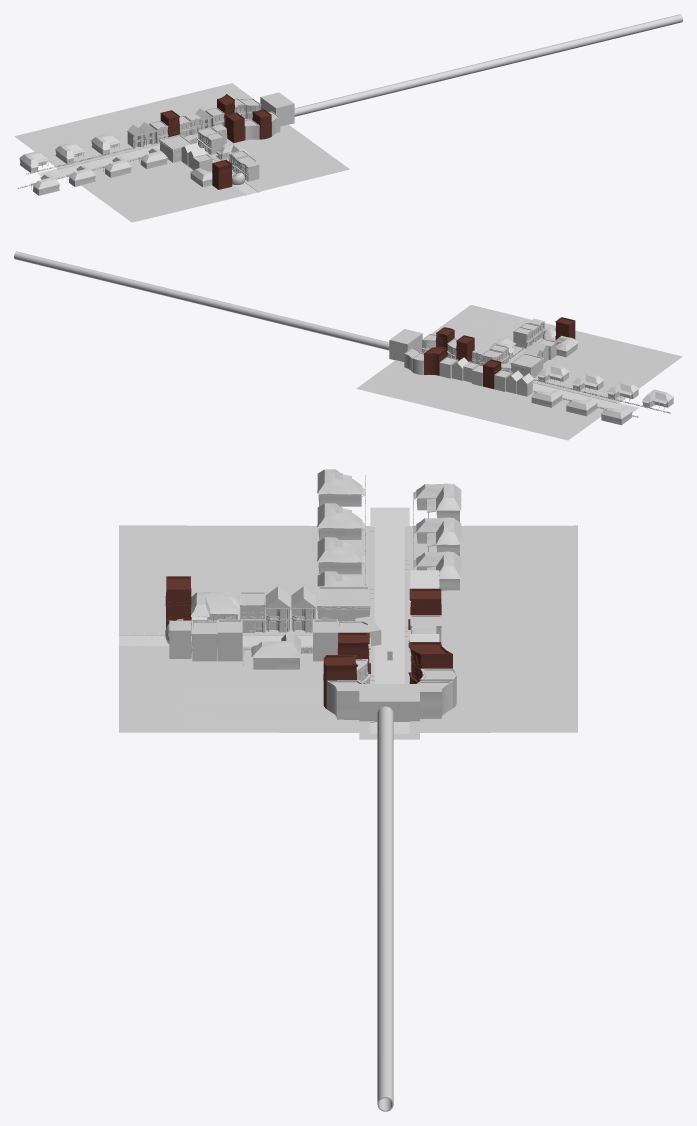
The model's file is GGJBlockoutScene_01.fbx.
3 renders of one model, top to bottom at view 1: azimuth 30°, elevation 25°; view 2: azimuth 150°, elevation 25°; view 3: azimuth 270°, elevation 25°, orthographic. The views are drawn at different scales.
Parts seen in each view (by area): view 1: Plane, Cylinder, Cube.014, IKEA, Shop_02.005, Shop_02.003, Shop_02.002, Cube.139, Cube.007, Cube.193, Cube.125, Cube.179 (+6 smaller); view 2: Plane, Cylinder, Cube.014, IKEA, Shop_02.001, Cube.193, Cube.139, Cube.179, Cube.007, Cube.165, Cube.153, Cube.125 (+7 smaller); view 3: Plane, Cylinder, Road, Cube.014, IKEA, Cube.032, Cube.193, Cube.165, Cube.179, Cube.139, Cube.125, Cube.003 (+16 smaller).
Boxes of the visible parts, box(x1,y1,x2,y2) form: Plane: box(14, 83, 349, 222); Cylinder: box(294, 14, 682, 116); Cube.014: box(260, 92, 294, 126); IKEA: box(159, 134, 192, 162); Shop_02.005: box(212, 159, 232, 189); Shop_02.003: box(225, 112, 244, 142); Shop_02.002: box(252, 108, 271, 139); Cube.139: box(19, 151, 49, 172); Cube.007: box(91, 133, 120, 154); Cube.193: box(30, 174, 60, 195); Cube.125: box(55, 142, 84, 163); Cube.179: box(66, 165, 96, 186); Plane: box(356, 305, 682, 440); Cylinder: box(14, 251, 389, 350); Cube.014: box(389, 329, 422, 361); IKEA: box(510, 353, 543, 377); Shop_02.001: box(423, 347, 446, 375); Cube.193: box(642, 389, 673, 408); Cube.139: box(601, 406, 632, 425); Cube.179: box(607, 381, 639, 400); Cube.007: box(531, 389, 562, 407); Cube.165: box(572, 372, 603, 391); Cube.153: box(537, 364, 569, 382); Cube.125: box(566, 398, 597, 416); Plane: box(119, 525, 577, 732); Cylinder: box(377, 706, 393, 1111); Road: box(119, 603, 409, 733); Cube.014: box(359, 684, 419, 739); IKEA: box(317, 586, 370, 621); Cube.032: box(251, 634, 301, 669); Cube.193: box(317, 469, 365, 506); Cube.165: box(317, 537, 365, 574); Cube.179: box(317, 503, 365, 539); Cube.139: box(413, 483, 461, 522); Cube.125: box(413, 517, 461, 556); Cube.003: box(191, 592, 239, 627).
Bounding box in the file's own units: 29812 × 1160 × 9112.
